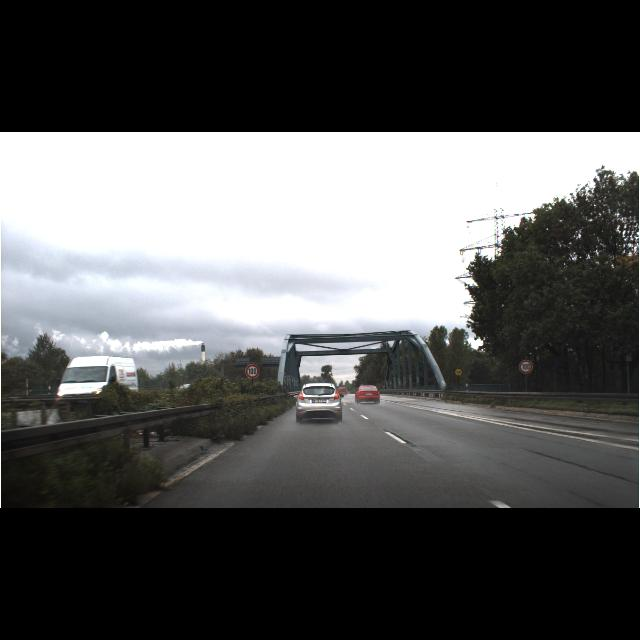prohibitory: (518, 360, 534, 374), (245, 364, 259, 378)
